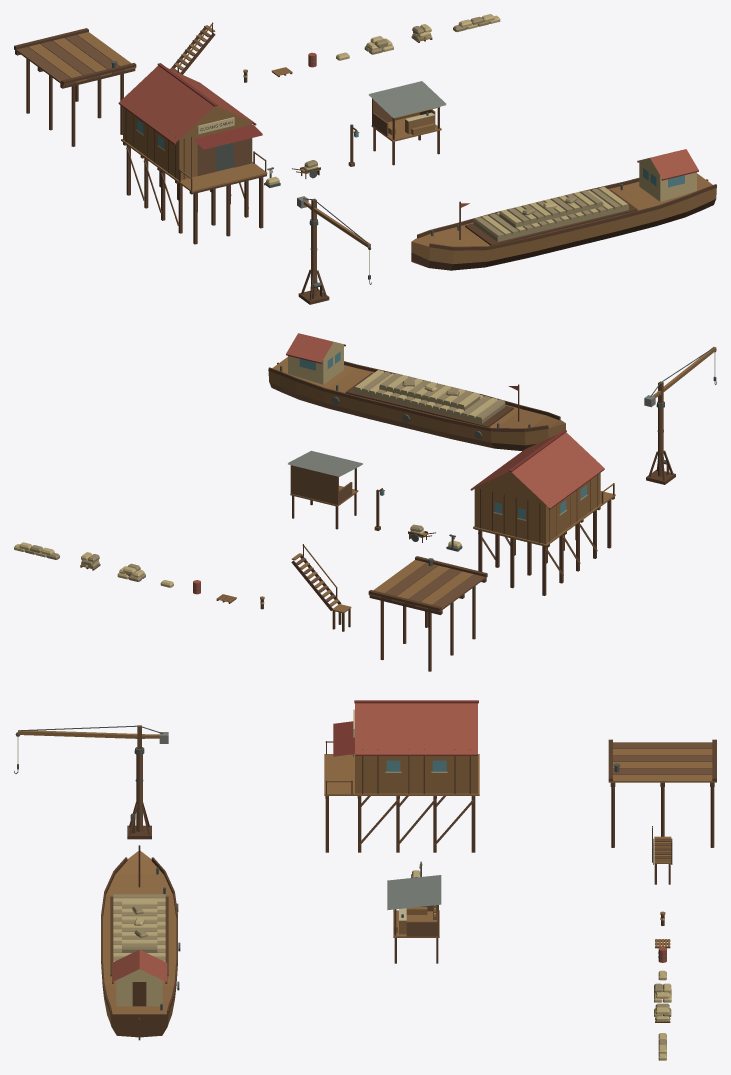
File: riverside-dermaga-kit.glb
3 views of the same model, one above another, from view 1: azimuth 30°, elevation 25°; view 2: azimuth 150°, elevation 25°; view 3: azimuth 270°, elevation 25° (orthographic). The views are drawn at different scales.
Parts seen in each view (by area): view 1: GEO-gudang-panggung, GEO-tongkang-kayu, GEO-dermaga-deck-6m, GEO-tongkang-cargo, GEO-warung-kopi, GEO-derek-kayu, GEO-dermaga-steps, GEO-derek-arm; view 2: GEO-gudang-panggung, GEO-tongkang-kayu, GEO-dermaga-deck-6m, GEO-tongkang-cargo, GEO-warung-kopi, GEO-dermaga-steps, GEO-derek-kayu, GEO-derek-arm; view 3: GEO-gudang-panggung, GEO-tongkang-kayu, GEO-dermaga-deck-6m, GEO-tongkang-cargo, GEO-warung-kopi, GEO-derek-arm, GEO-derek-kayu, GEO-dermaga-steps.
Boxes of the visible parts, left/top/right/bottom form: GEO-gudang-panggung: left=118, top=63, right=267, bottom=244; GEO-tongkang-kayu: left=411, top=149, right=716, bottom=270; GEO-dermaga-deck-6m: left=14, top=28, right=136, bottom=146; GEO-tongkang-cargo: left=473, top=187, right=628, bottom=241; GEO-warung-kopi: left=369, top=81, right=446, bottom=165; GEO-derek-kayu: left=298, top=221, right=329, bottom=304; GEO-dermaga-steps: left=170, top=22, right=215, bottom=74; GEO-derek-arm: left=297, top=196, right=371, bottom=249; GEO-gudang-panggung: left=470, top=430, right=615, bottom=595; GEO-tongkang-kayu: left=268, top=333, right=565, bottom=450; GEO-dermaga-deck-6m: left=368, top=556, right=487, bottom=671; GEO-tongkang-cargo: left=354, top=370, right=505, bottom=423; GEO-warung-kopi: left=288, top=450, right=362, bottom=529; GEO-dermaga-steps: left=291, top=544, right=351, bottom=631; GEO-derek-kayu: left=646, top=404, right=675, bottom=484; GEO-derek-arm: left=644, top=346, right=716, bottom=407; GEO-gudang-panggung: left=324, top=700, right=479, bottom=852; GEO-tongkang-kayu: left=101, top=845, right=180, bottom=1040; GEO-dermaga-deck-6m: left=608, top=739, right=716, bottom=847; GEO-tongkang-cargo: left=113, top=894, right=165, bottom=961; GEO-warung-kopi: left=387, top=875, right=441, bottom=963; GEO-derek-arm: left=15, top=725, right=168, bottom=752; GEO-derek-kayu: left=127, top=750, right=151, bottom=839; GEO-dermaga-steps: left=652, top=826, right=672, bottom=884.
Bounding box in the file's own units: 38.18 × 9.55 × 45.69.
